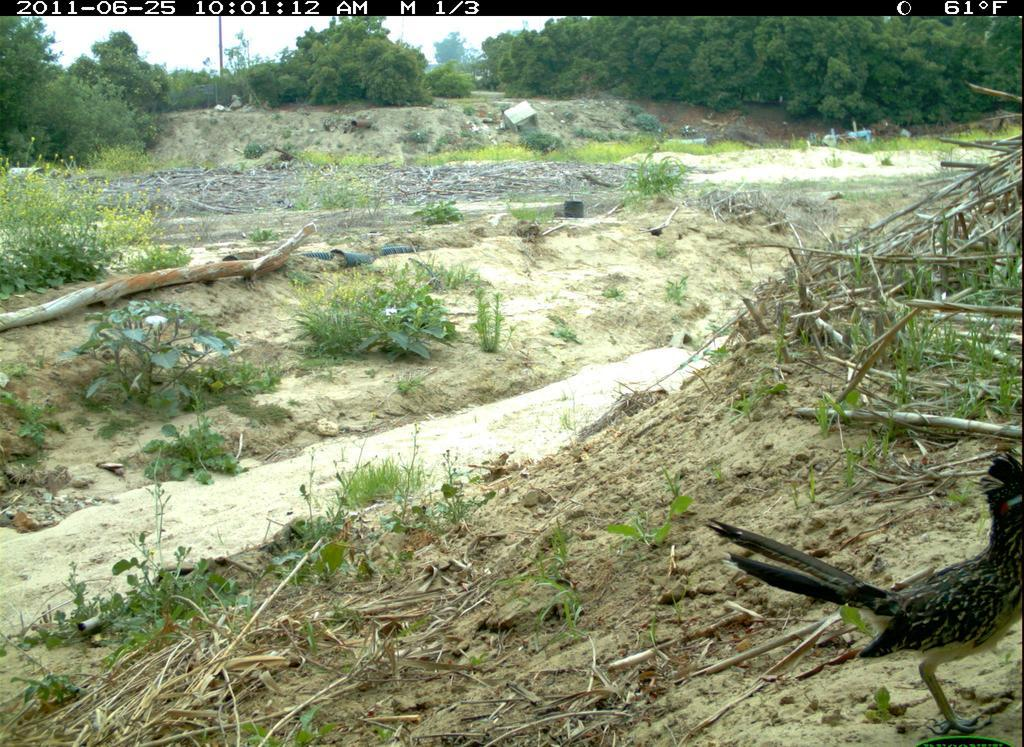bird: (708, 443, 1019, 734)
